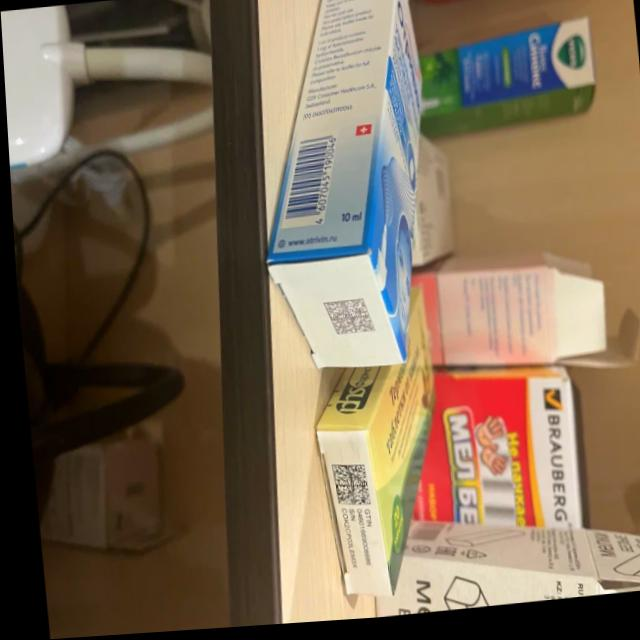datamatrix: (318, 301, 373, 346), (324, 465, 366, 515)
